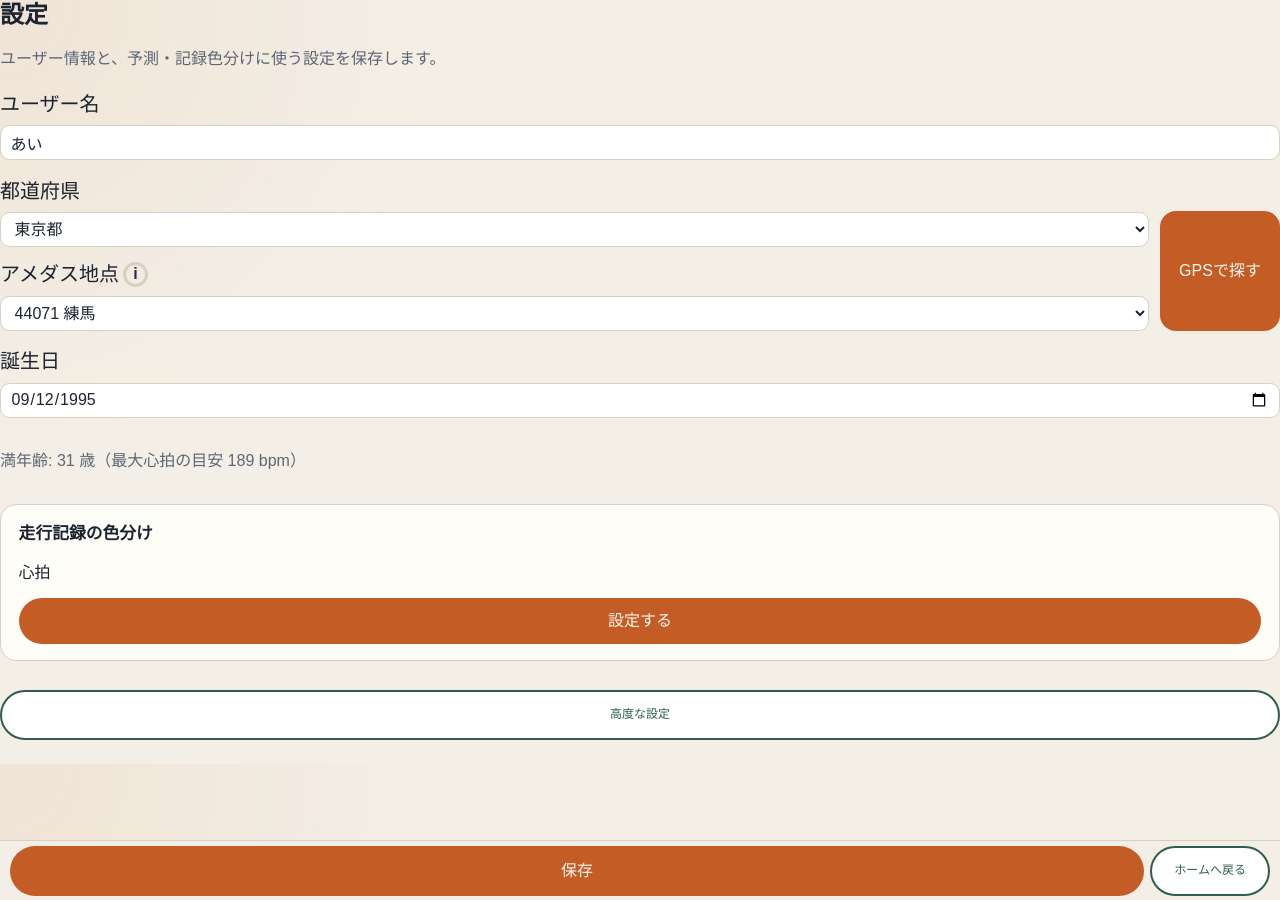
高度な設定 › デフォルト設定に戻すと誕生日からの目安と重み初期値に戻る
Step 1. Click the button "高度な設定" → (640, 715), box [0,690,1279,740]
(page scrolled)
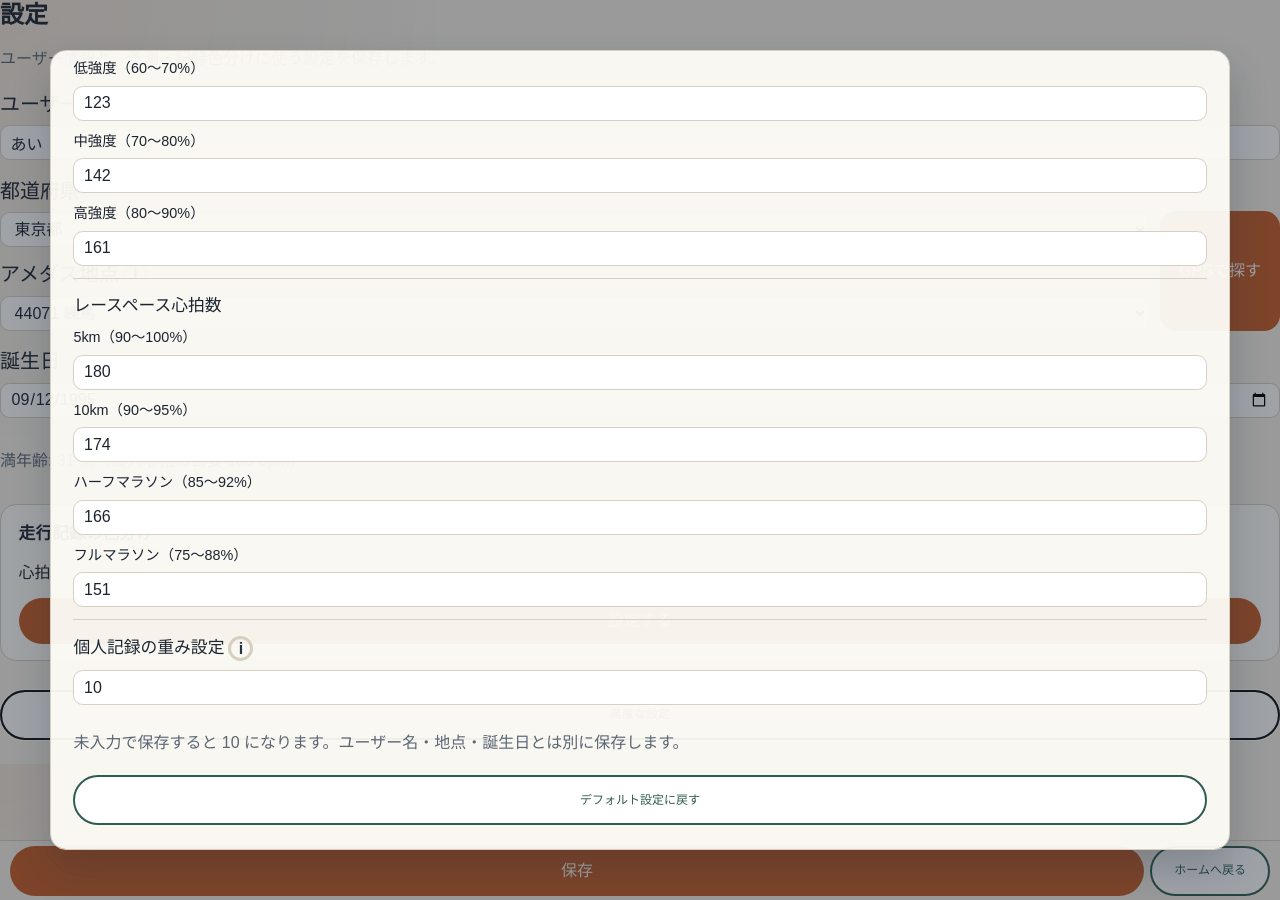
Step 2. Replace the text in the number field named "個人記録の重み設定" with "20" → (640, 688), box [73,670,1207,705]
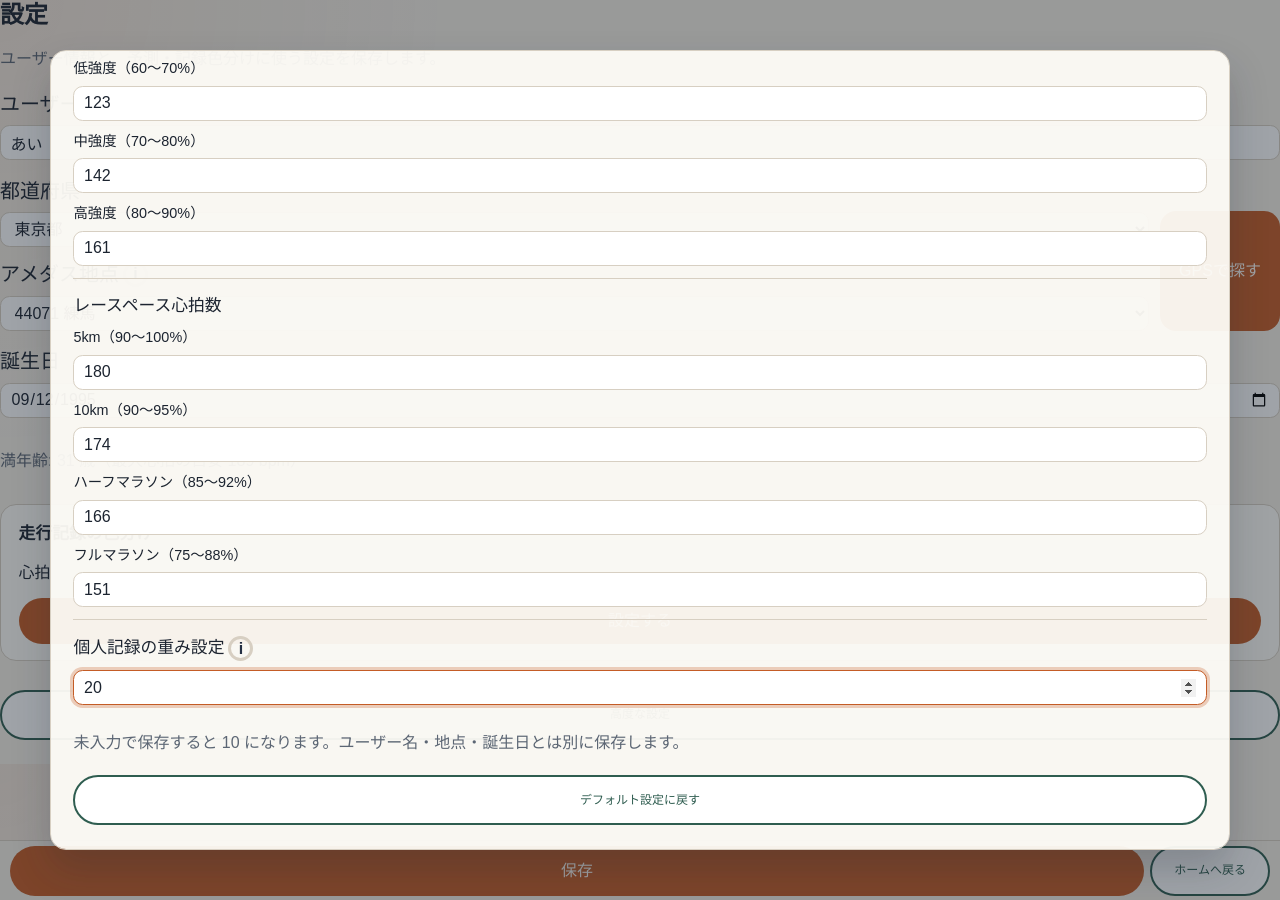
Step 3. Replace the text in the number field labelled "低強度（60〜70%）" with "100" → (640, 104), box [73,86,1207,121]
(page scrolled)
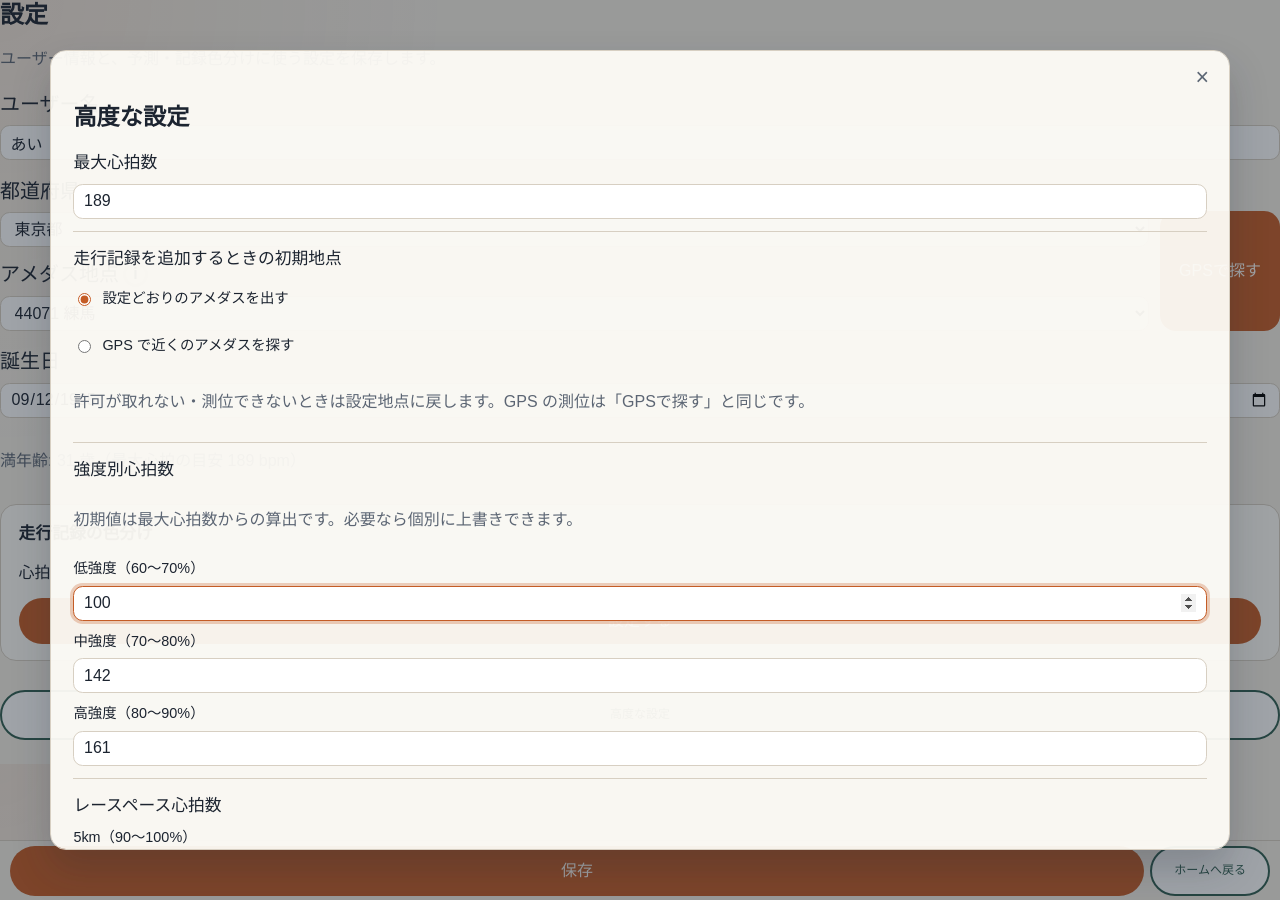
Step 4. Click the radio button labelled "GPS で近くのアメダスを探す" → (85, 347), box [78,329,91,364]
(page scrolled)
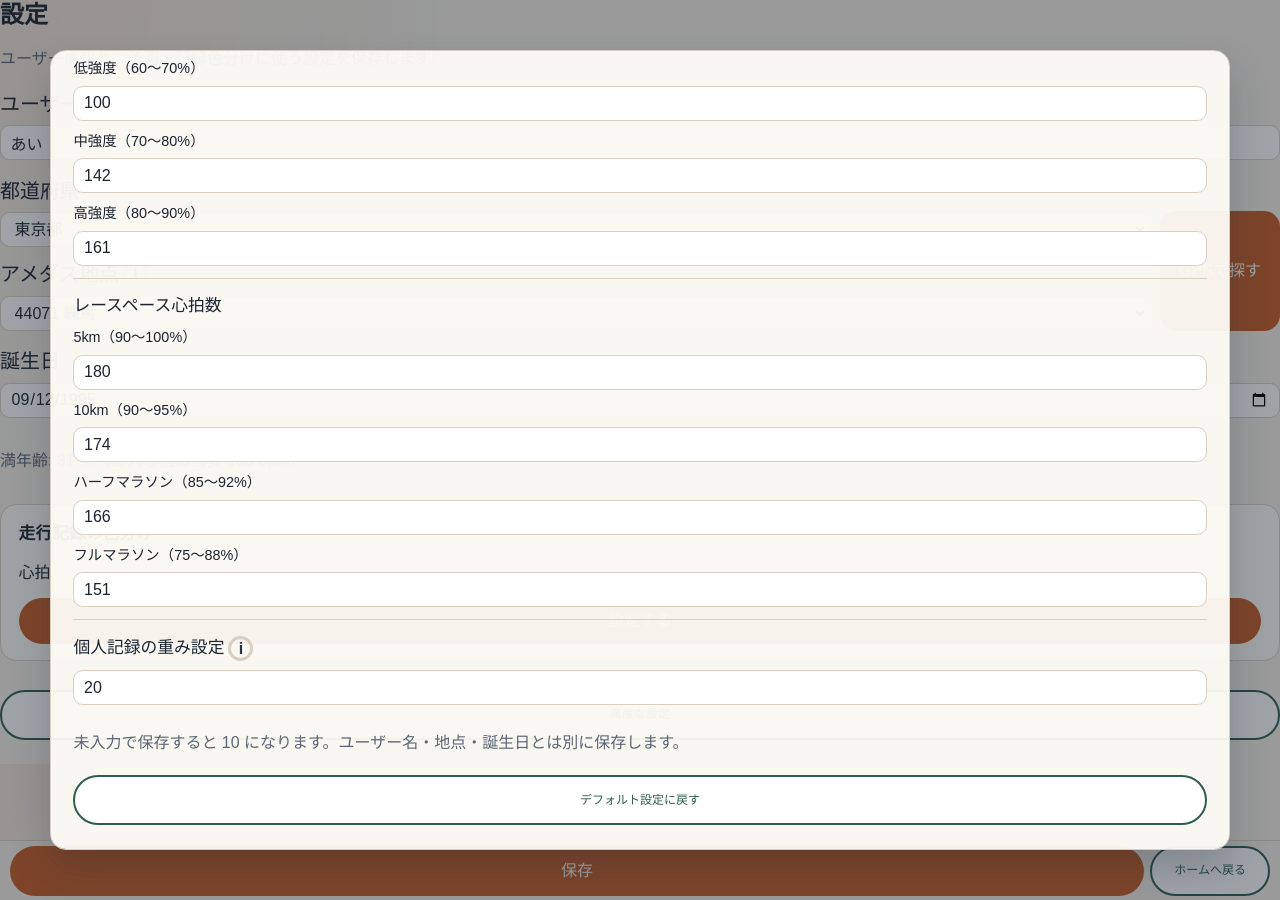
Step 5. Click the button "デフォルト設定に戻す" → (640, 800), box [73,775,1207,825]
(page scrolled)
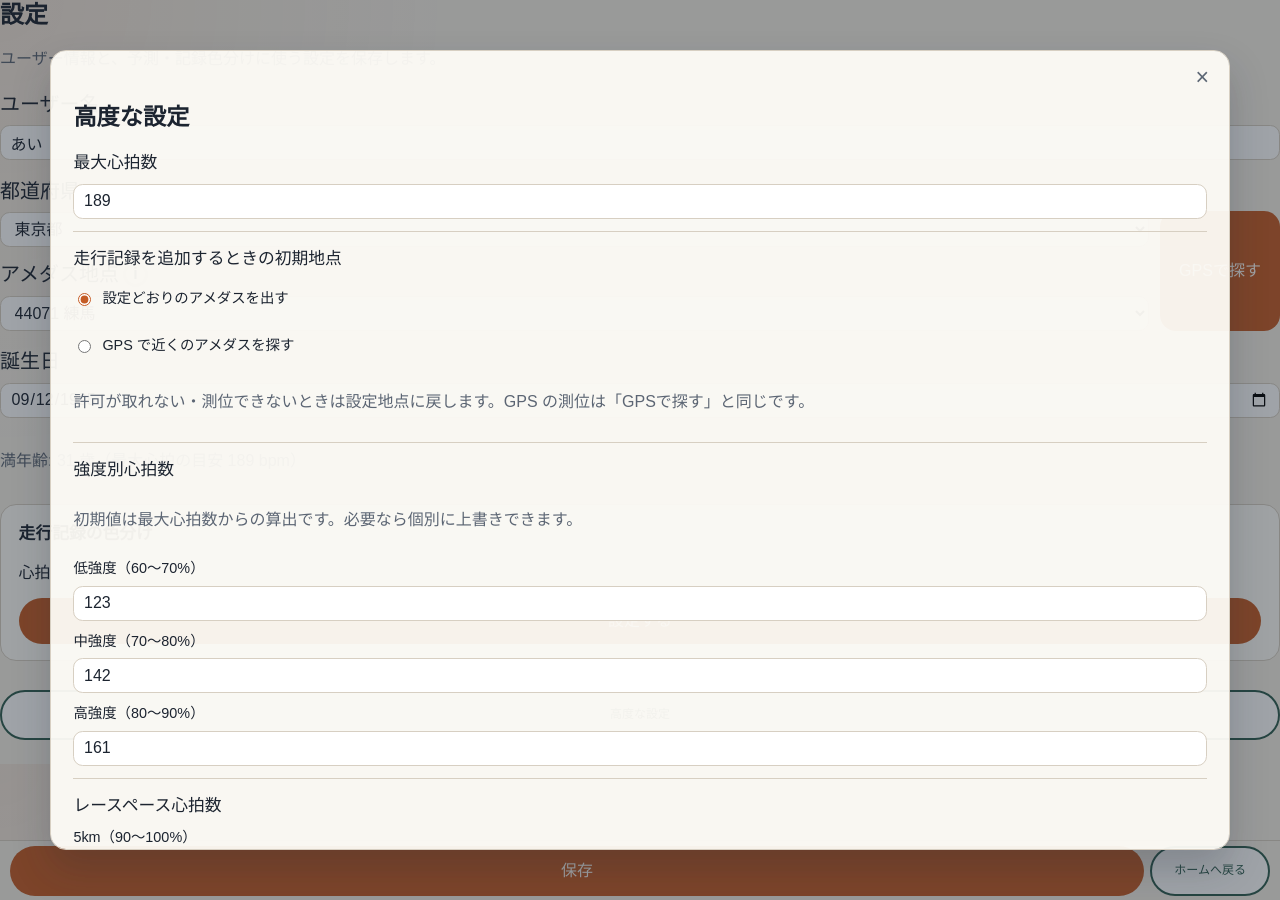
Expected: the number field labelled "低強度（60〜70%）" holds "123", [73,586,1207,621]
Expected: the number field labelled "最大心拍数" holds "189", [73,184,1207,219]
Expected: the radio button labelled "設定どおりのアメダスを出す" is checked, [78,282,91,317]
